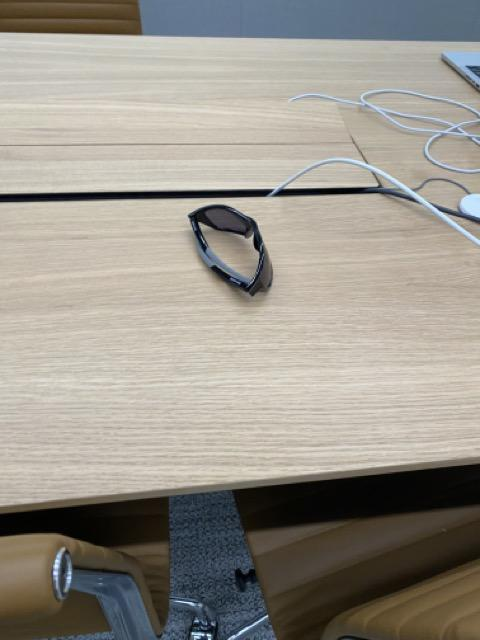Sunglasses: (188, 202, 275, 299)
